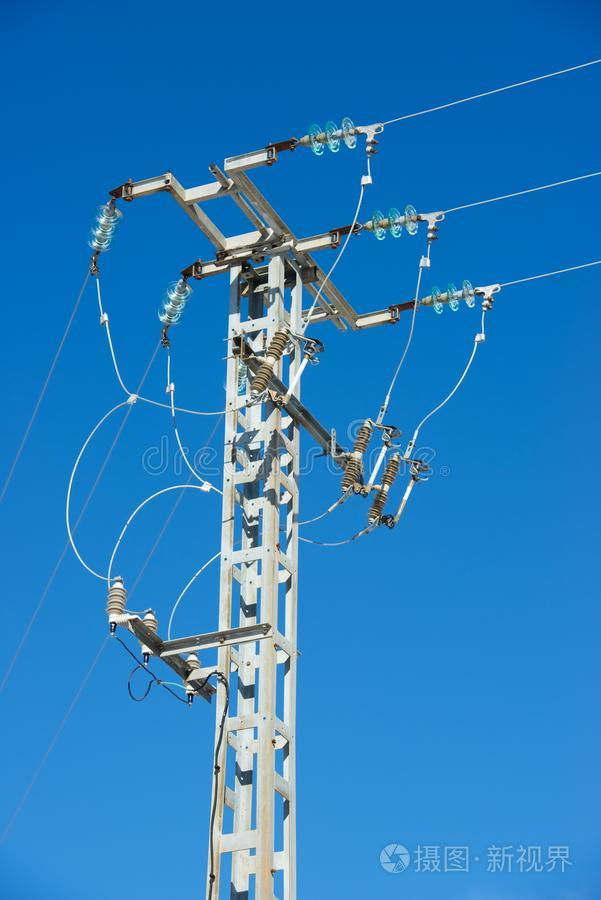insulator: (306, 115, 357, 160), (428, 278, 477, 314), (156, 281, 193, 328), (369, 206, 418, 241), (85, 206, 117, 252)
